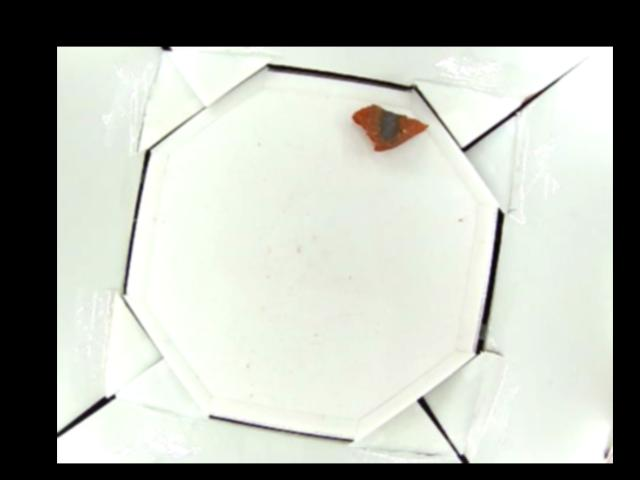Brisk: (352, 103, 427, 152)
